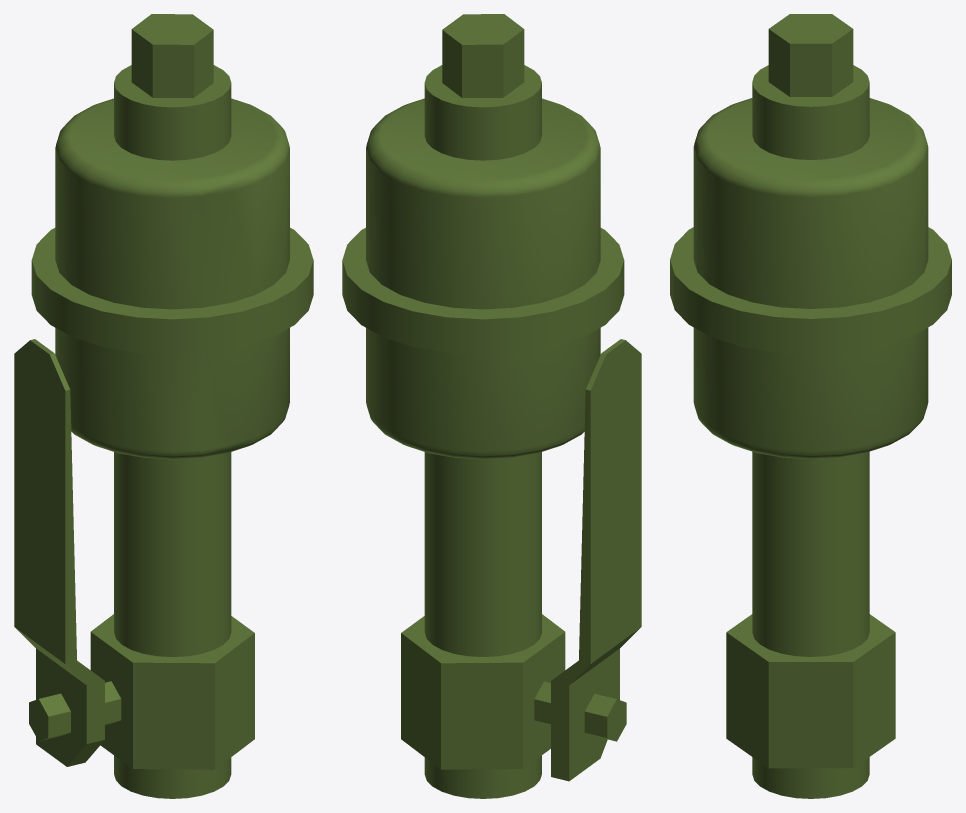
The model's file is AirClock.fbx.
The picture shows the model from 3 angles, left to right: view 1: azimuth 30°, elevation 25°; view 2: azimuth 150°, elevation 25°; view 3: azimuth 270°, elevation 25°; orthographic projection.
Parts seen in each view (by area): view 1: AirClock, AirClock-Handle; view 2: AirClock, AirClock-Handle; view 3: AirClock.
Boxes of the visible parts, x1,y1,x2,y2 form: AirClock: (31, 14, 313, 798); AirClock-Handle: (14, 339, 121, 766); AirClock: (342, 14, 624, 798); AirClock-Handle: (534, 339, 641, 781); AirClock: (670, 14, 951, 798).
Bounding box in the file's own units: 7.55 × 21 × 7.2.
